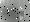person: (19, 9, 25, 20)
